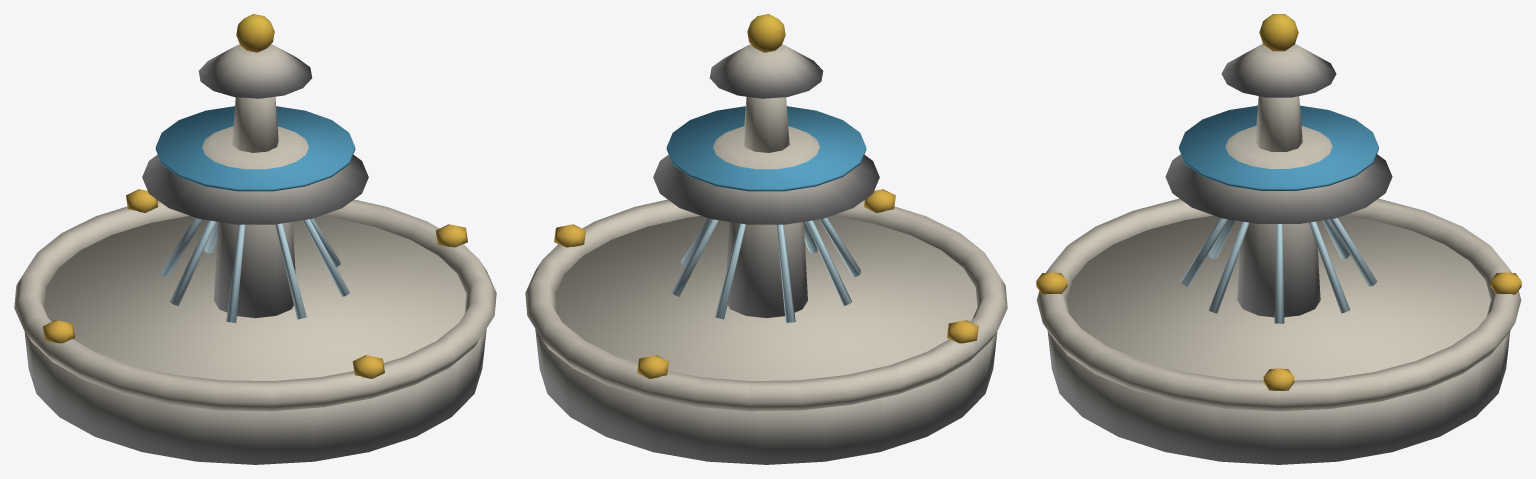
File: fountain.glb
The picture shows the model from 3 angles, left to right: view 1: azimuth 30°, elevation 25°; view 2: azimuth 150°, elevation 25°; view 3: azimuth 270°, elevation 25°; orthographic projection.
Parts seen in each view (by area): view 1: Fountain, WellWater; view 2: Fountain, WellWater; view 3: Fountain, WellWater.
Boxes of the visible parts, box(x1,y1,x2,y2) form: Fountain: box(14, 14, 496, 464); WellWater: box(155, 106, 355, 322); Fountain: box(525, 14, 1007, 464); WellWater: box(666, 106, 866, 322); Fountain: box(1036, 14, 1521, 464); WellWater: box(1179, 105, 1378, 323).
Bounding box in the file's own units: 3.21 × 2.58 × 3.2.
